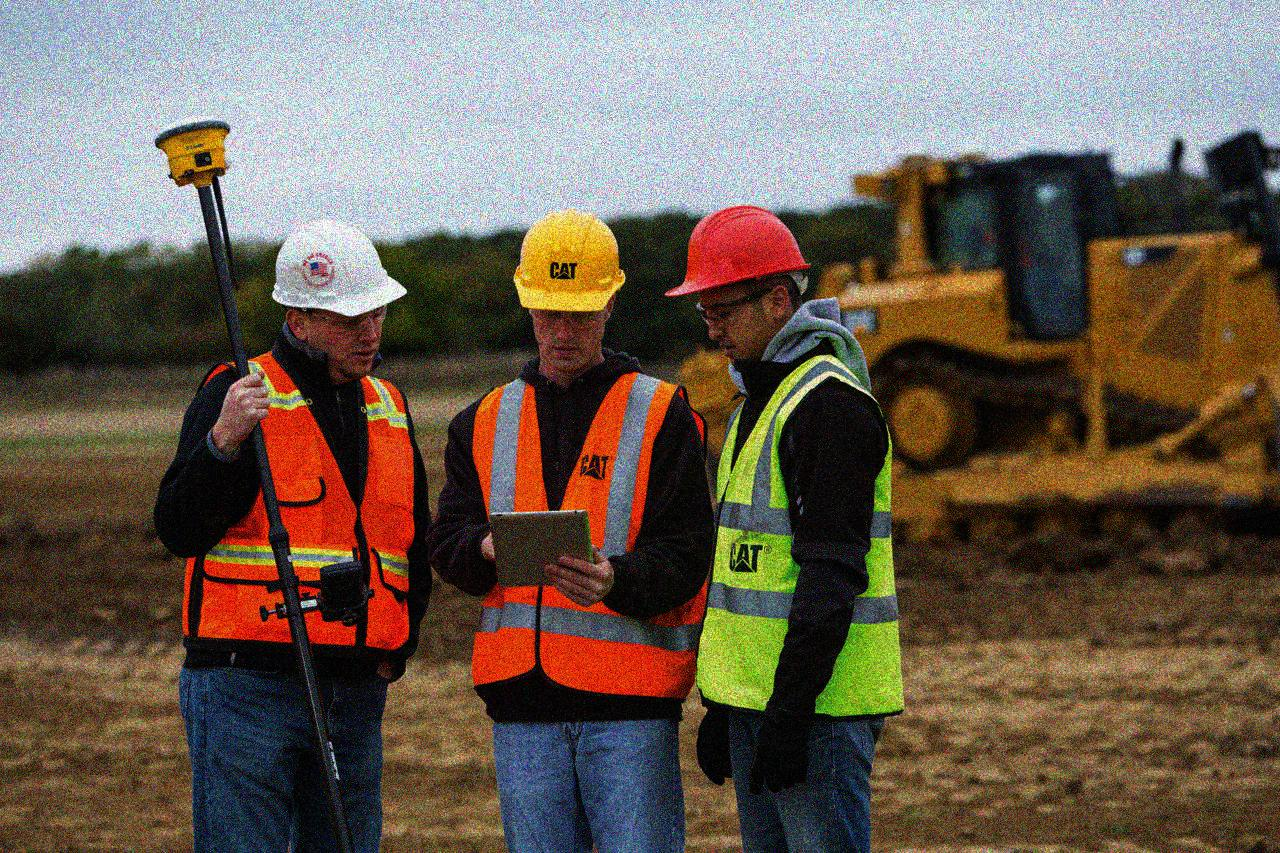helmet: (661, 201, 810, 368), (267, 214, 411, 371), (515, 207, 628, 368)
